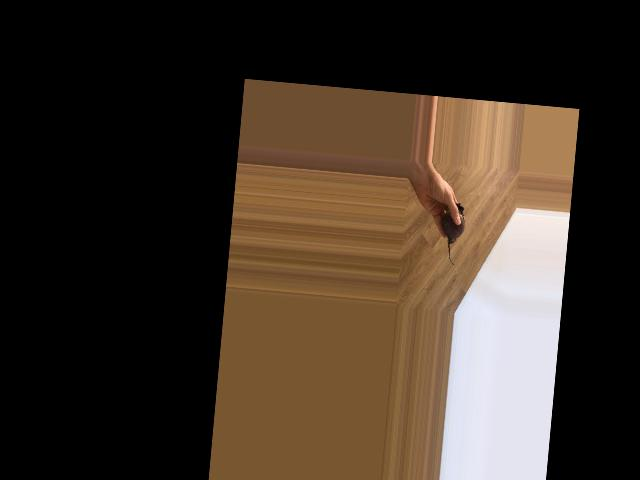beet: (438, 201, 466, 266)
